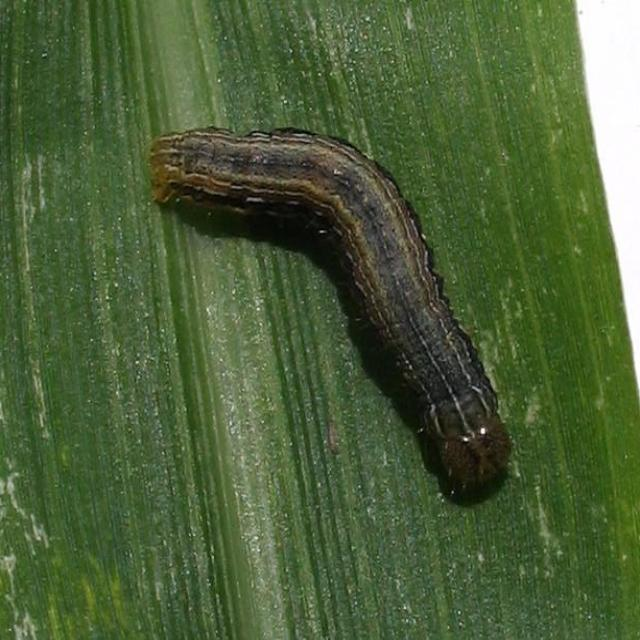army worm: (142, 108, 519, 512)
